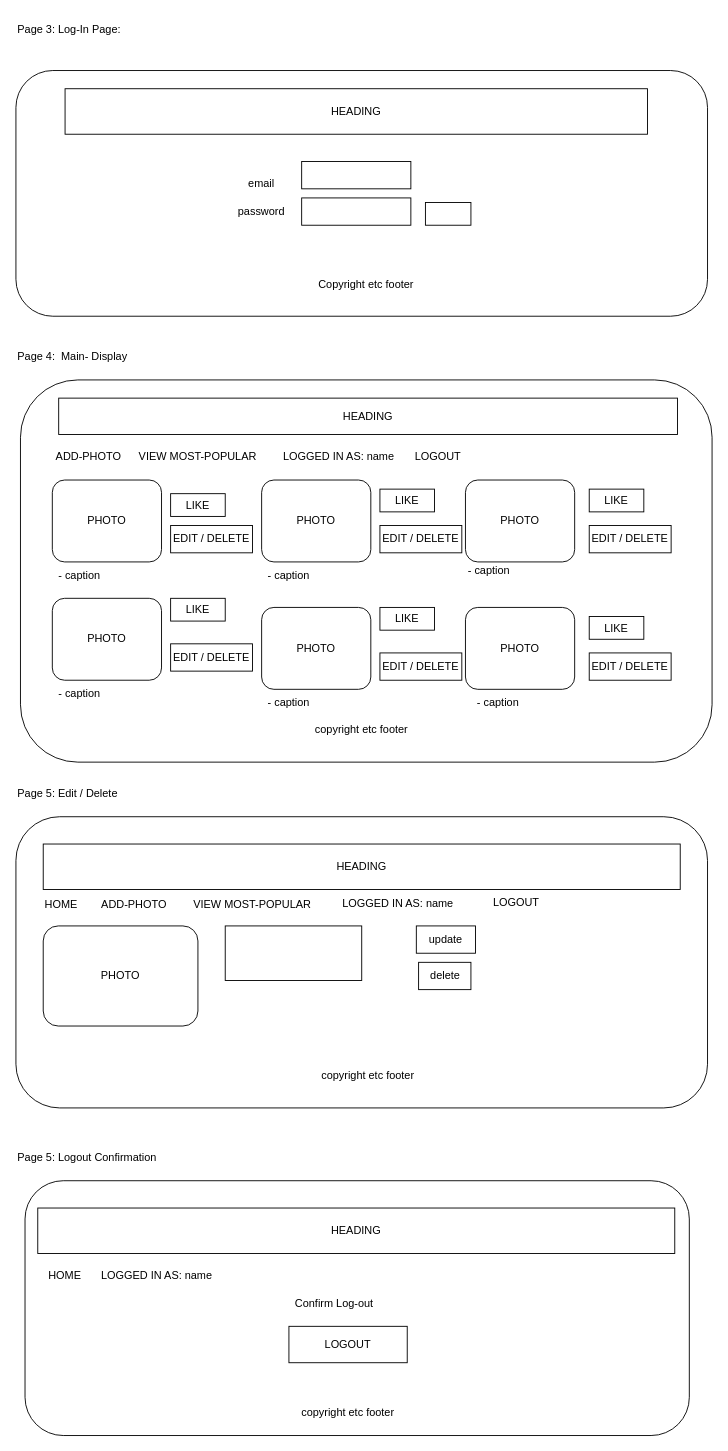
Image size: 728x1451. Some labels were removed from this diagram. Each missing label, with the centre of its shape:
"CAPTION: EDIT" belongs at point (293, 953).
"OK" belongs at point (448, 213).
